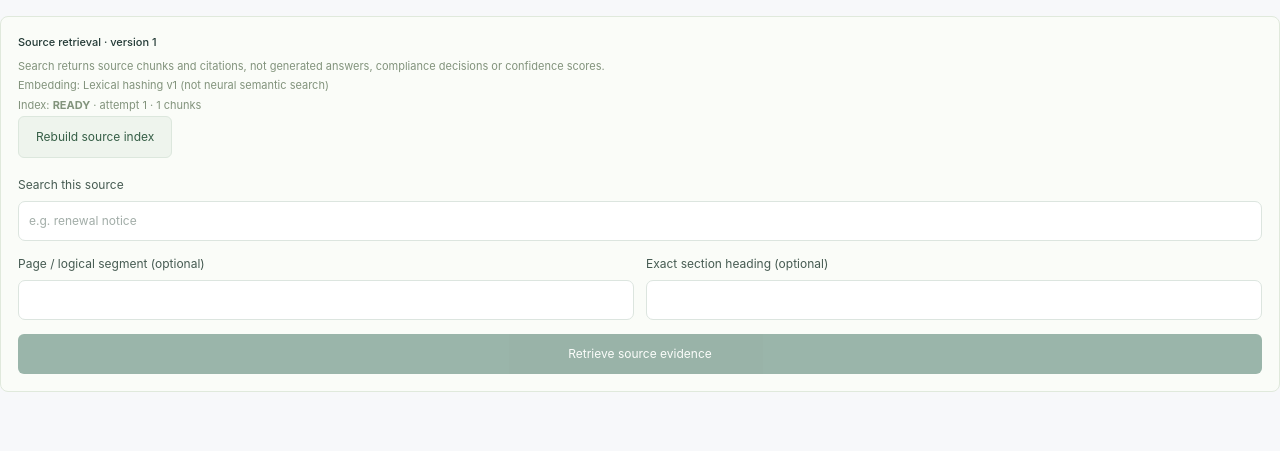
Test case: distinguishes an empty result from retrieval failure
Type "renewal" into the field with placeholder "e.g. renewal notice".
click(640, 221); type("renewal")  # box x1=18 y1=201 x2=1262 y2=241
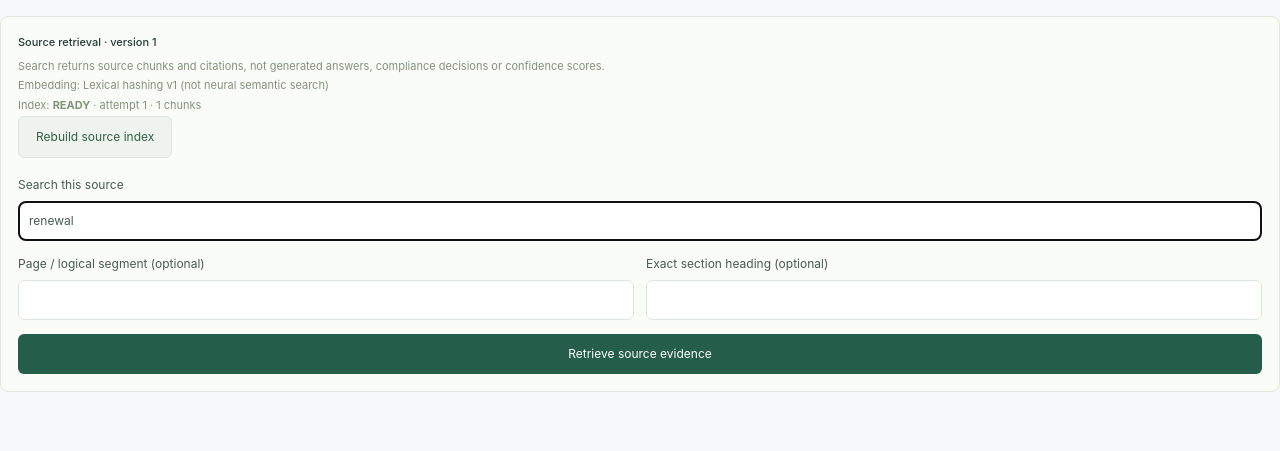
Click the button "Retrieve source evidence".
click(640, 354)  # box x1=18 y1=334 x2=1262 y2=374
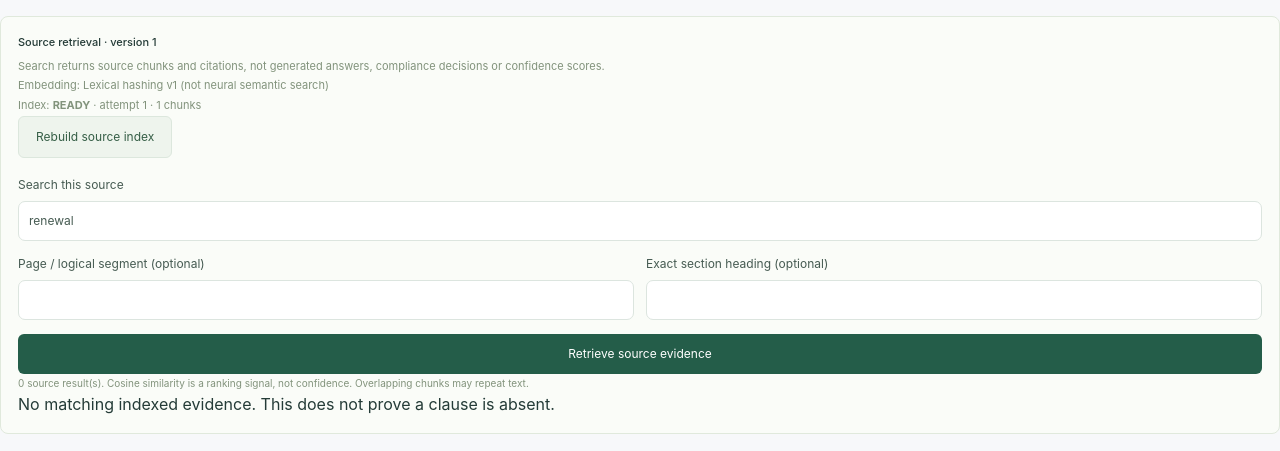
Expected: the text "does not prove a clause is absent" is shown, x1=18 y1=394 x2=555 y2=414
Click the button "Retrieve source evidence".
click(640, 354)  # box x1=18 y1=334 x2=1262 y2=374
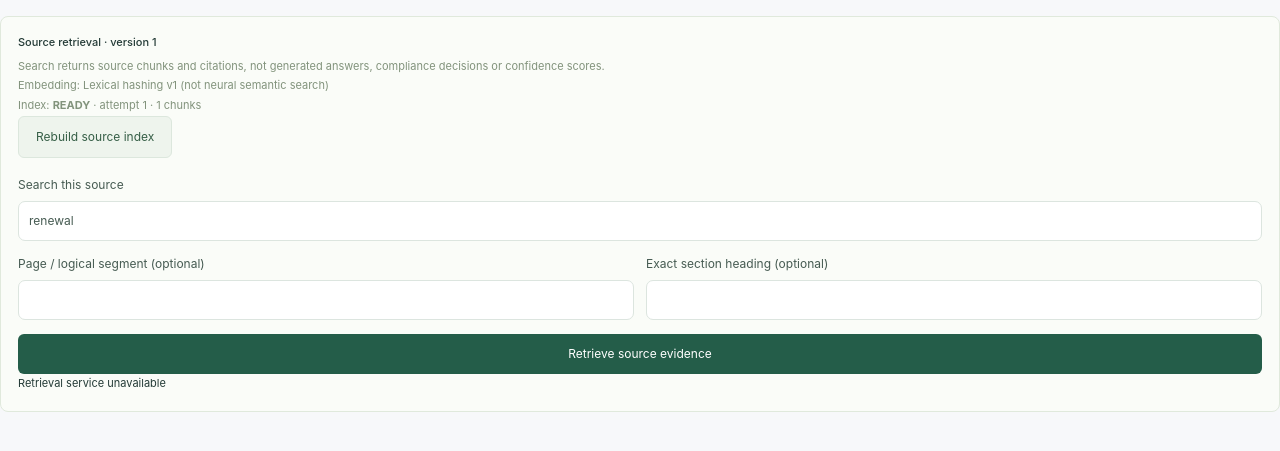
Expected: the text "Retrieval service unavailable" is shown, x1=18 y1=376 x2=166 y2=390
